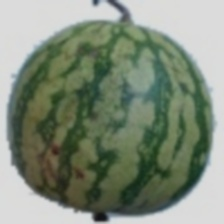watermelon: (36, 46, 210, 188)
